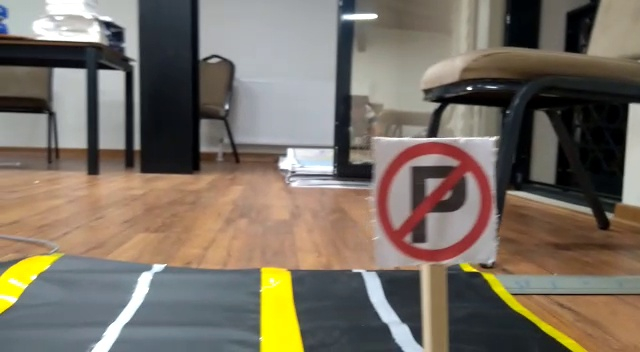park_yapilmaz: (376, 140, 498, 265)
